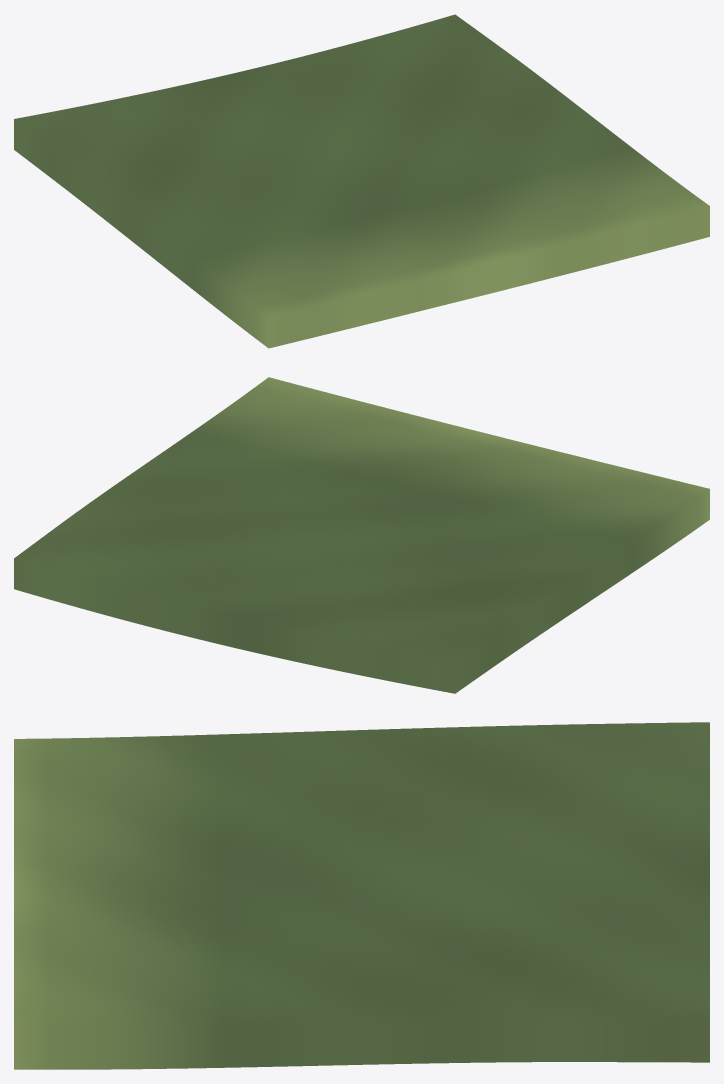
3 renders of one model, top to bottom at view 1: azimuth 30°, elevation 25°; view 2: azimuth 150°, elevation 25°; view 3: azimuth 270°, elevation 25°, orthographic. The views are drawn at different scales.
Parts seen in each view (by area): view 1: terrain; view 2: terrain; view 3: terrain.
Boxes of the visible parts, x1=… form: terrain: x1=14, y1=14, x2=709, y2=348; terrain: x1=14, y1=377, x2=709, y2=693; terrain: x1=14, y1=722, x2=709, y2=1069.
Bounding box in the file's own units: 30 × 2.8 × 30.
